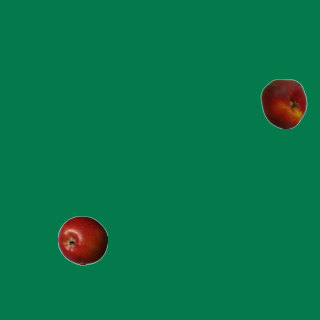Apple Braeburn: (57, 215, 107, 265)
Nectarine Flat: (258, 78, 308, 128)
